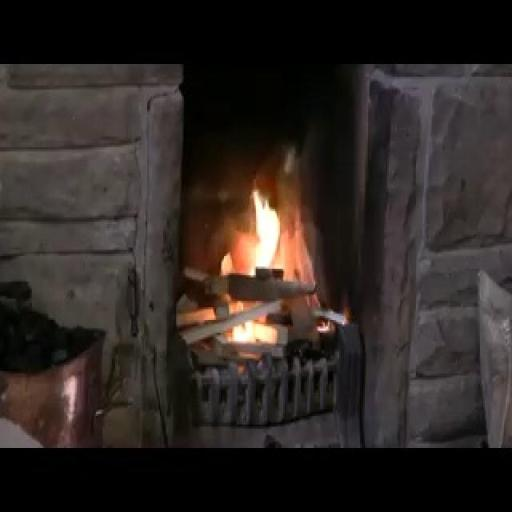smoke: (230, 172, 288, 280)
